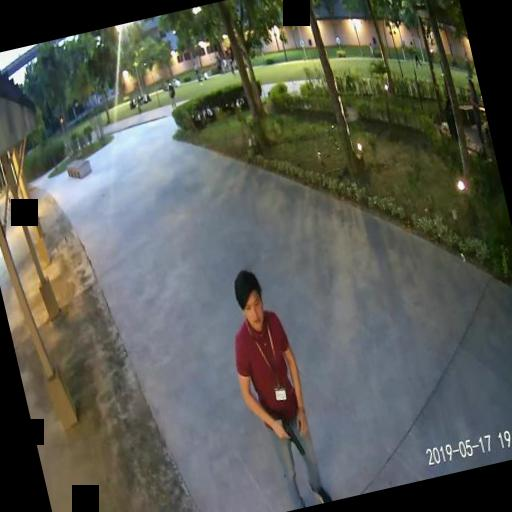Handgun: (276, 414, 302, 456)
